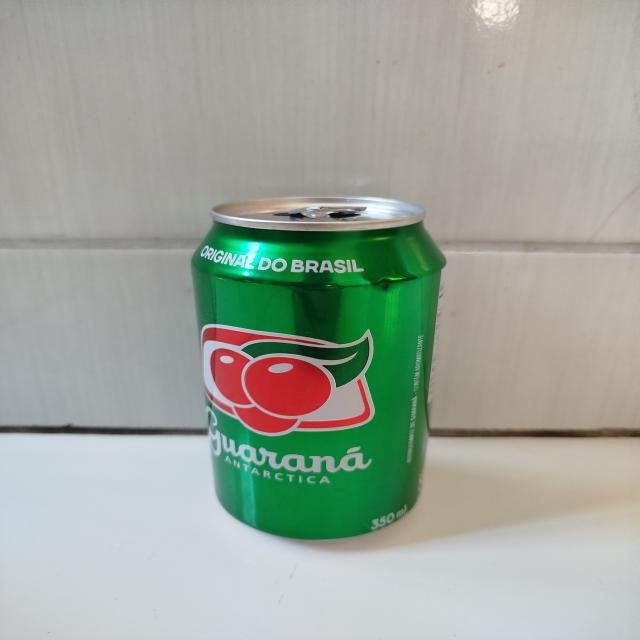Guarana: (188, 194, 448, 541)
